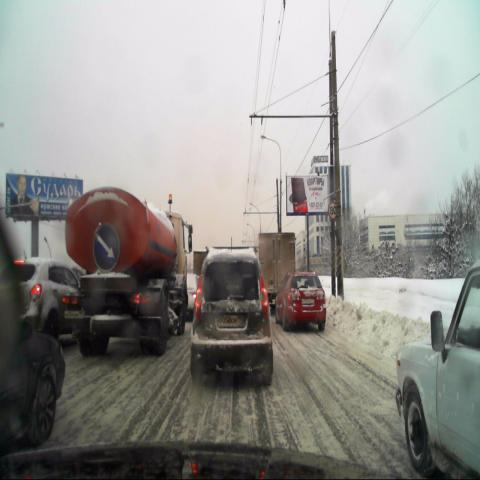3_24: (328, 199, 339, 221)
